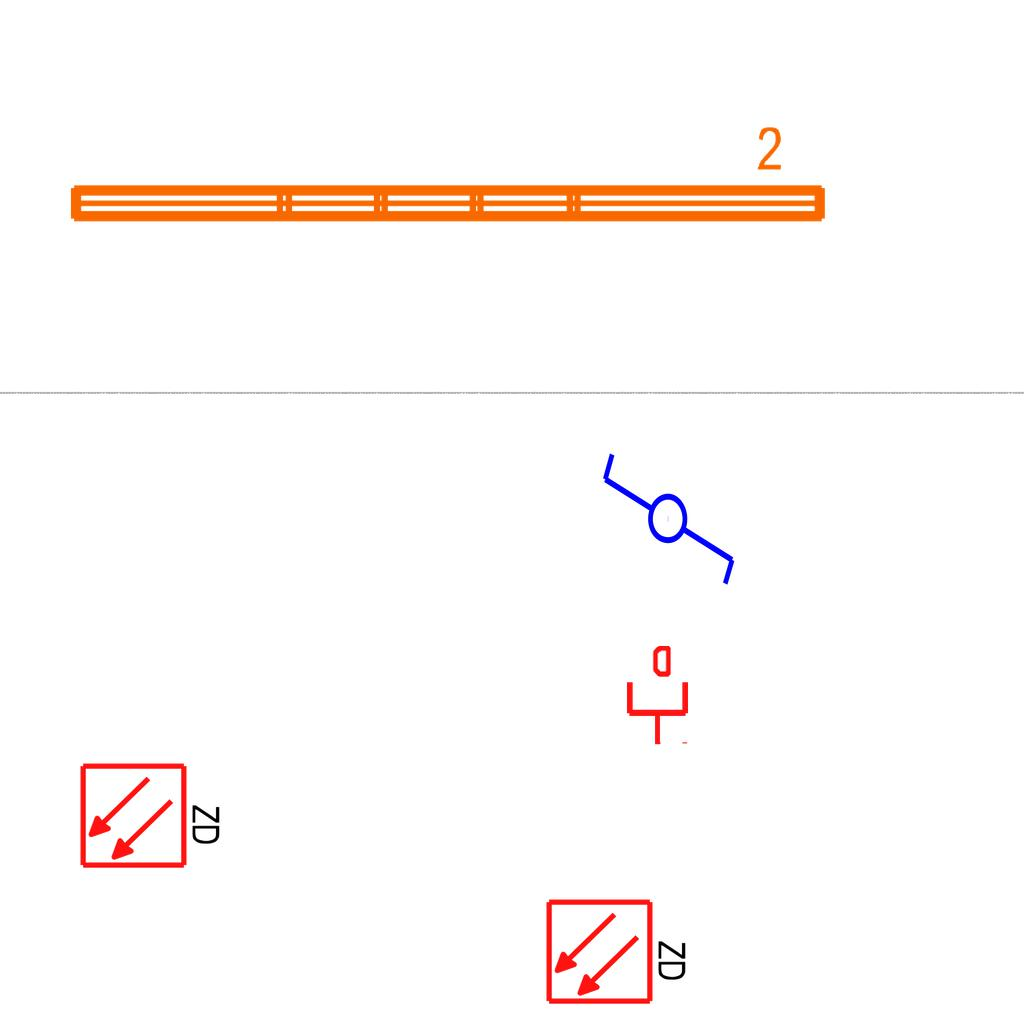Ambulanz_Pendelleuchte_LED: (60, 122, 834, 234)
Datenanschluss_einfach: (623, 646, 692, 746)
Wechselschalter: (598, 432, 742, 589)
ZD_Melder_in_Zwischendecke_mit_Revisionsoeffnung_mind_40_x_40_cm: (78, 757, 227, 871), (544, 893, 693, 1007)
